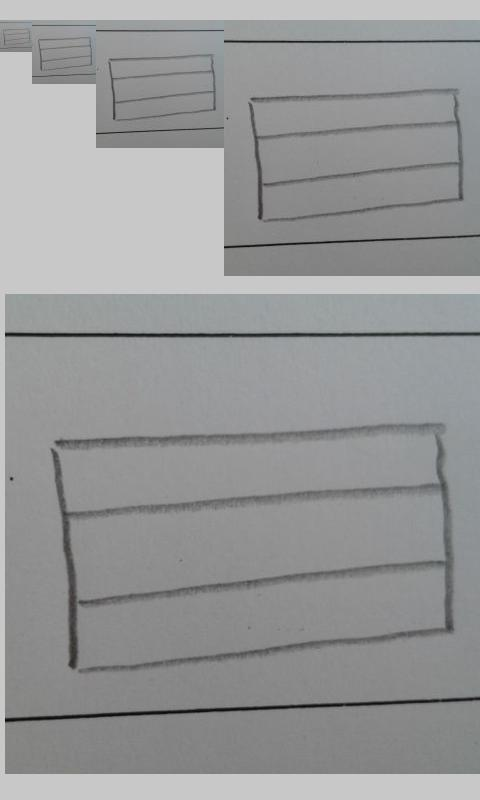list_view: (51, 422, 453, 678), (247, 87, 464, 224), (107, 53, 218, 122), (37, 36, 93, 72), (3, 28, 31, 46)
